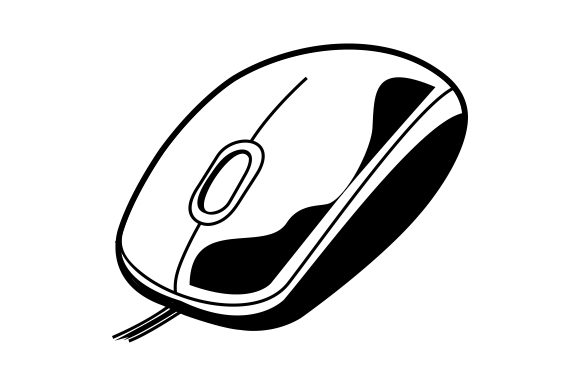mouse: (112, 39, 477, 333)
